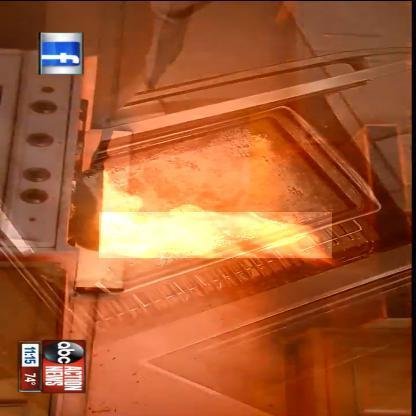Fire: (92, 160, 334, 267)
